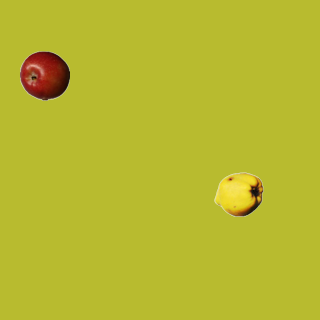Apple Braeburn: (19, 50, 69, 100)
Quince: (213, 169, 263, 219)
